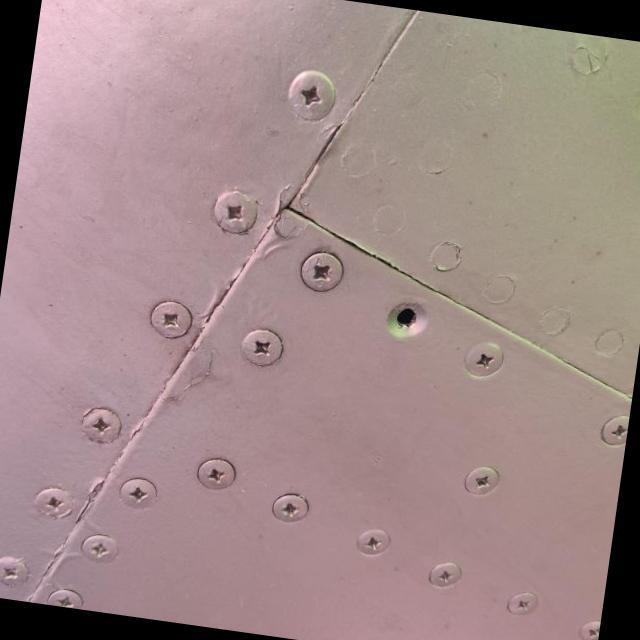Fastener Damage: (367, 274, 458, 364)
